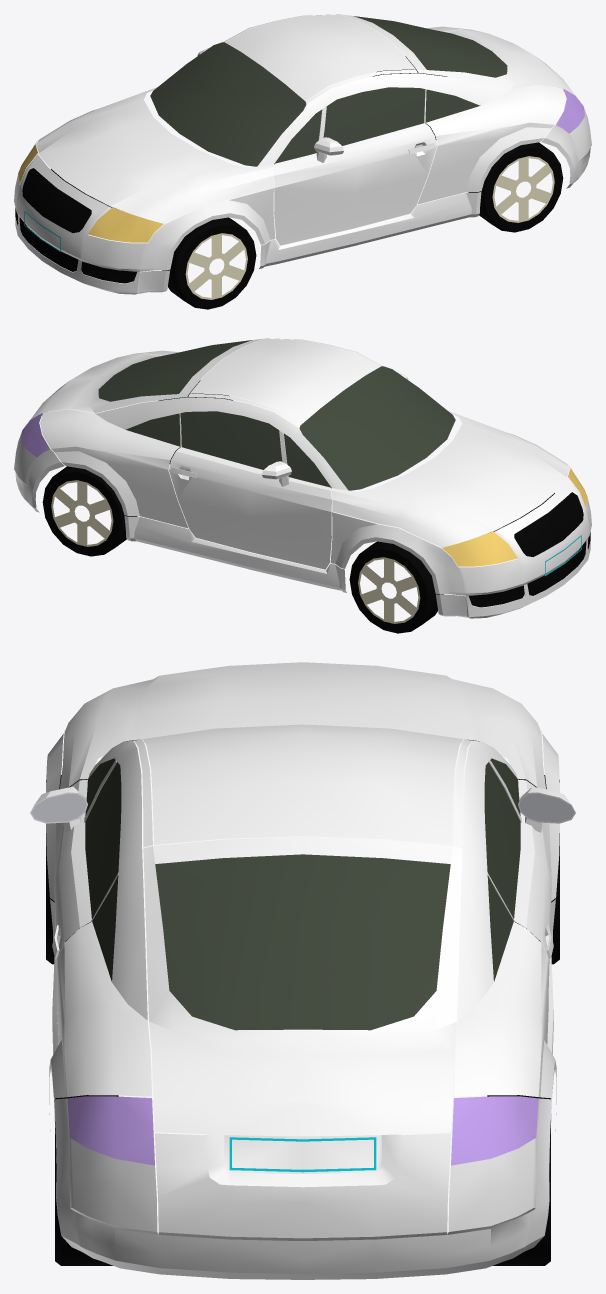
The picture shows the model from 3 angles, top to bottom: view 1: azimuth 30°, elevation 25°; view 2: azimuth 150°, elevation 25°; view 3: azimuth 270°, elevation 25°; orthographic projection. The views are drawn at different scales.
Parts seen in each view (by area): view 1: body_1, glass_1, tyre_1, wheel_1, plastic_1.1, headlght_1, black_1, rearlght_1; view 2: body_1, glass_1, tyre_1, wheel_1, plastic_1.1, headlght_1, black_1, rearlght_1; view 3: body_1, glass_1, rearlght_1, tyre_1, mirror_1, chrome_1.
Boxes of the visible parts, x1,y1,x2,y2 form: body_1: [14, 14, 591, 294]; glass_1: [150, 16, 507, 166]; tyre_1: [51, 56, 563, 309]; wheel_1: [185, 156, 554, 299]; plastic_1.1: [22, 168, 91, 232]; headlght_1: [18, 142, 163, 242]; black_1: [15, 208, 136, 283]; rearlght_1: [556, 88, 584, 133]; body_1: [14, 338, 591, 618]; glass_1: [98, 340, 455, 490]; tyre_1: [42, 380, 554, 633]; wheel_1: [51, 480, 420, 623]; plastic_1.1: [514, 492, 583, 556]; headlght_1: [442, 466, 587, 566]; black_1: [469, 532, 590, 607]; rearlght_1: [21, 412, 49, 457]; body_1: [30, 662, 575, 1279]; glass_1: [85, 739, 520, 1030]; rearlght_1: [67, 1096, 538, 1165]; tyre_1: [46, 775, 559, 1265]; mirror_1: [31, 794, 574, 822]; chrome_1: [229, 1137, 376, 1172].
Bounding box in the file's own units: 4.85 × 1.61 × 2.21.
